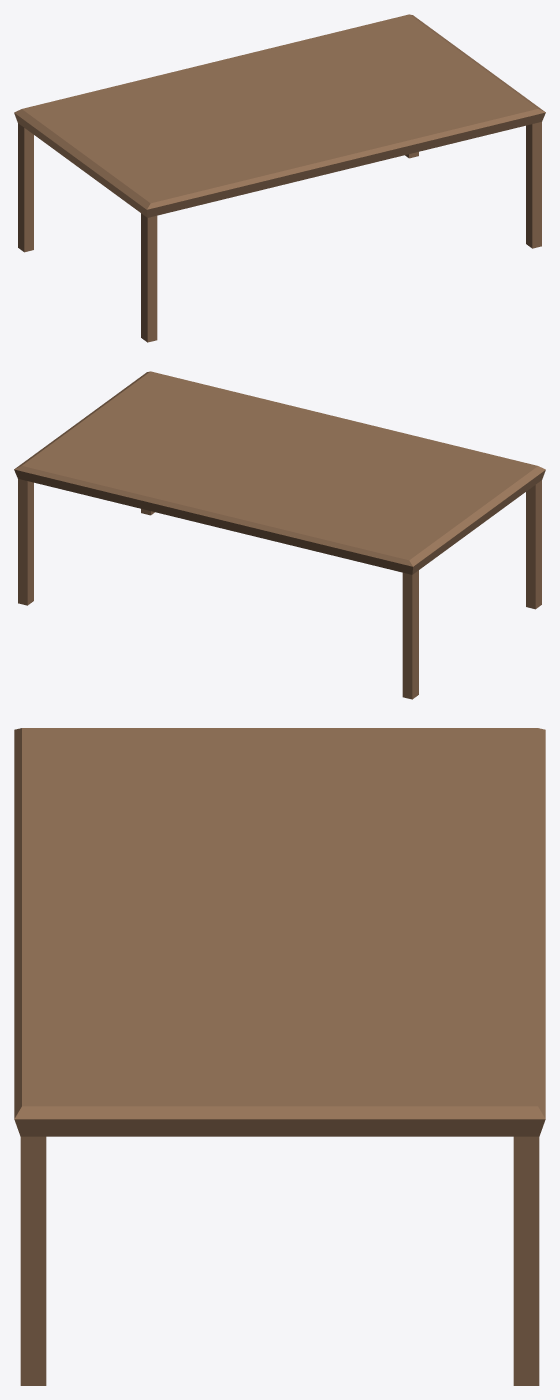
File: table.fbx
3 views of the same model, one above another, from view 1: azimuth 30°, elevation 25°; view 2: azimuth 150°, elevation 25°; view 3: azimuth 270°, elevation 25° (orthographic). The views are drawn at different scales.
Visible parts, largest first — view 1: SmallTable; view 2: SmallTable; view 3: SmallTable.
Boxes of the visible parts, left/top/right/bottom form: SmallTable: left=14, top=14, right=545, bottom=342; SmallTable: left=14, top=371, right=545, bottom=699; SmallTable: left=14, top=728, right=545, bottom=1385.
Size of the model in its own units: 317 by 105 by 183.
